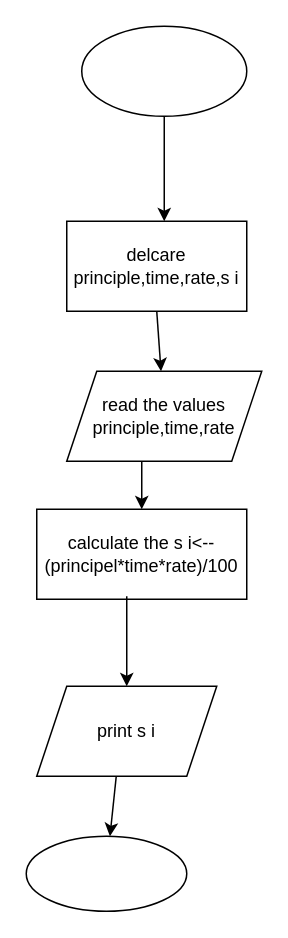
Some shapes in this 288 by 938 pixel diagram are drawn without their labels. The shapes that lost their labels are listed below. From the top down, each one's centre as x and y in pixels, then its label:
point (163, 70): start
point (106, 873): stop
